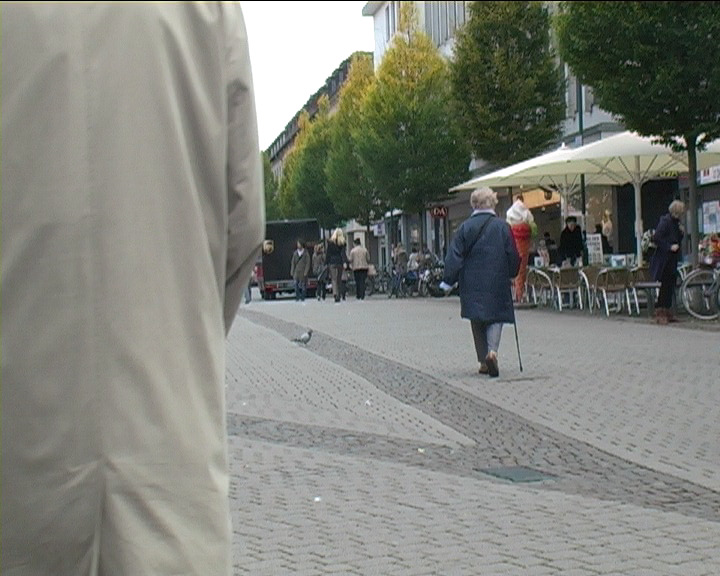undeflect: (447, 190, 516, 246)
